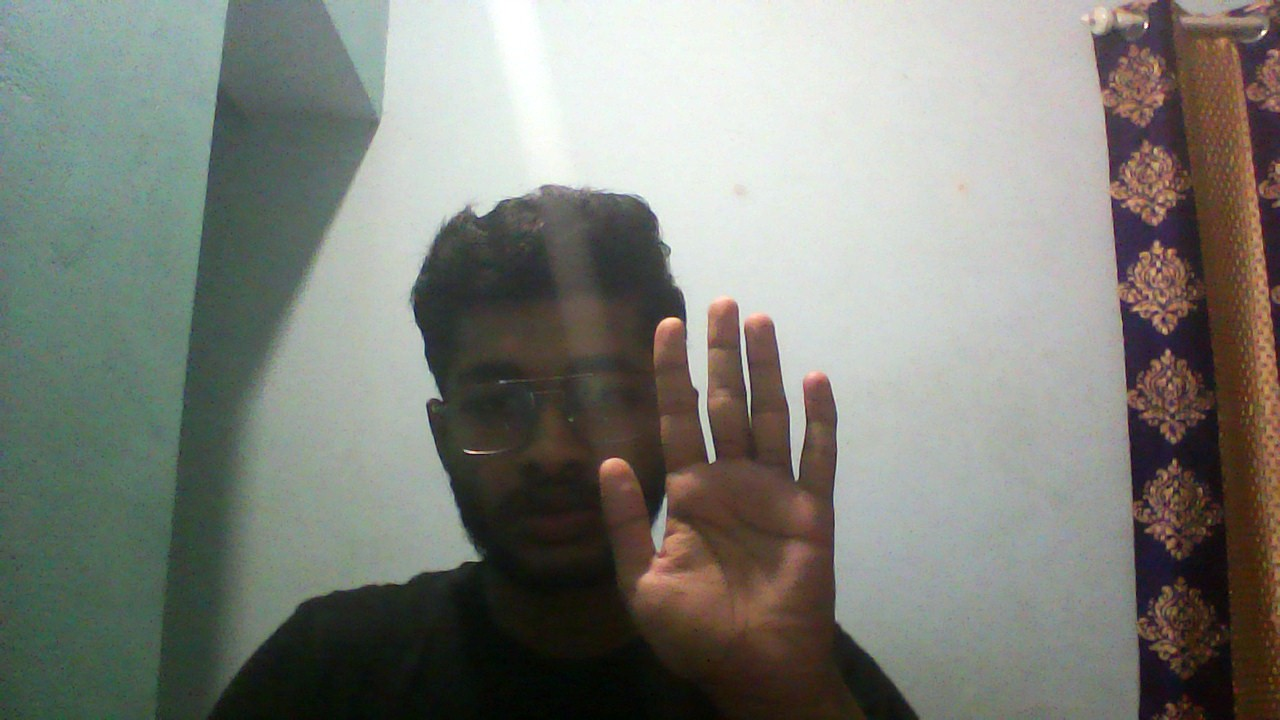hello: (595, 296, 845, 671)
